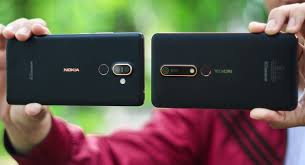nokia: (151, 29, 295, 108), (4, 29, 145, 107)
